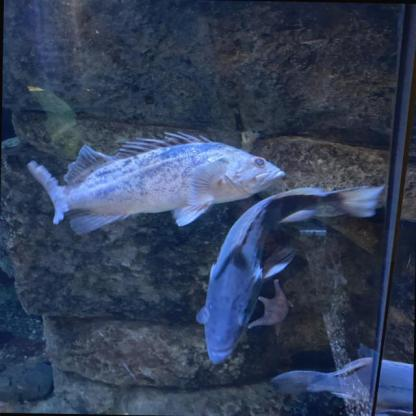fish: (182, 176, 387, 373), (36, 129, 278, 228)
